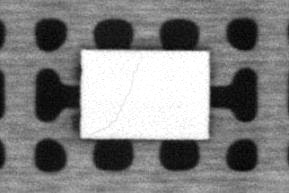DIE_CRACK: (87, 63, 140, 133)
